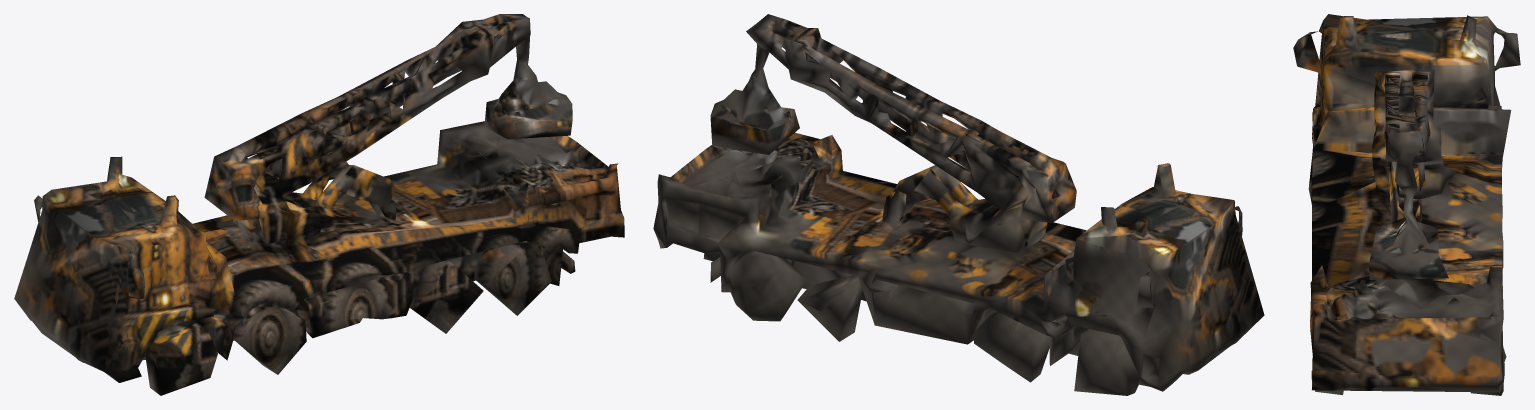
File: haulrig_lod2.glb
3 views of the same model, side by side, from view 1: azimuth 30°, elevation 25°; view 2: azimuth 150°, elevation 25°; view 3: azimuth 270°, elevation 25° (orthographic). The views are drawn at different scales.
Visible parts, largest first — view 1: geometry_0; view 2: geometry_0; view 3: geometry_0.
Part boxes in pixels (box(x1,y1,x2,y2)): geometry_0: box(14, 14, 624, 395); geometry_0: box(653, 14, 1264, 395); geometry_0: box(1293, 14, 1520, 395).
Size of the model in its own units: 1.98 by 0.9385 by 0.6877.
1 material, 1 textured.
